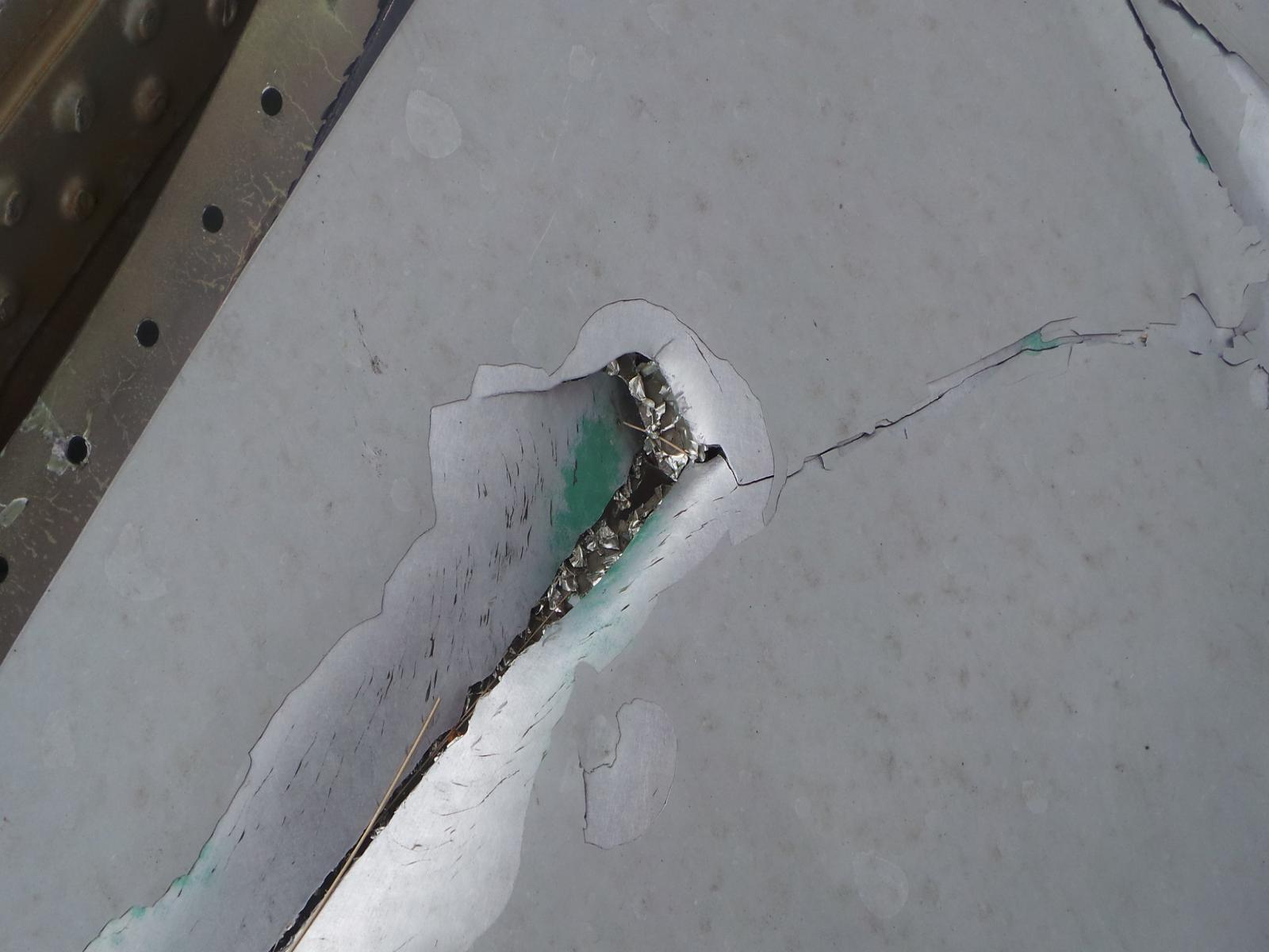Skin_Cover: (91, 376, 636, 949), (299, 464, 768, 951), (470, 299, 773, 482)
